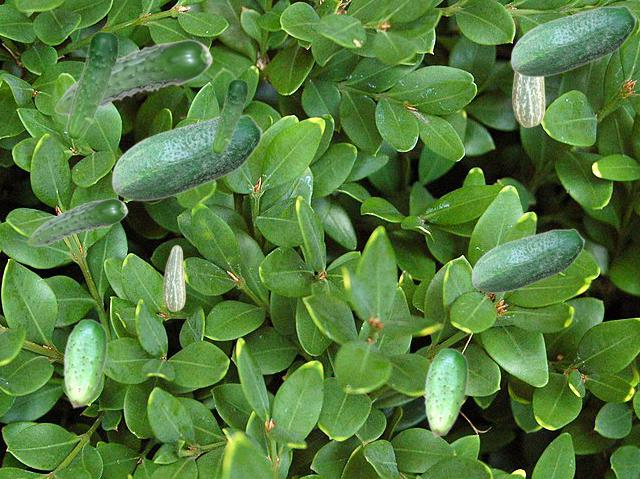cucumber: (111, 114, 262, 200), (54, 39, 212, 114), (510, 5, 636, 76), (471, 228, 584, 292), (65, 31, 118, 139), (27, 198, 127, 245), (63, 318, 106, 407), (424, 347, 467, 436), (211, 79, 247, 153), (512, 72, 544, 126), (163, 245, 184, 310)
